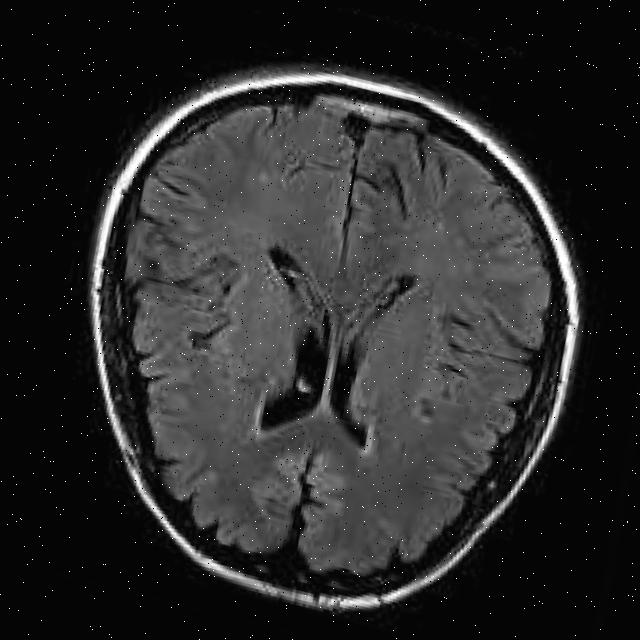NoTumor: (9, 12, 640, 640)
